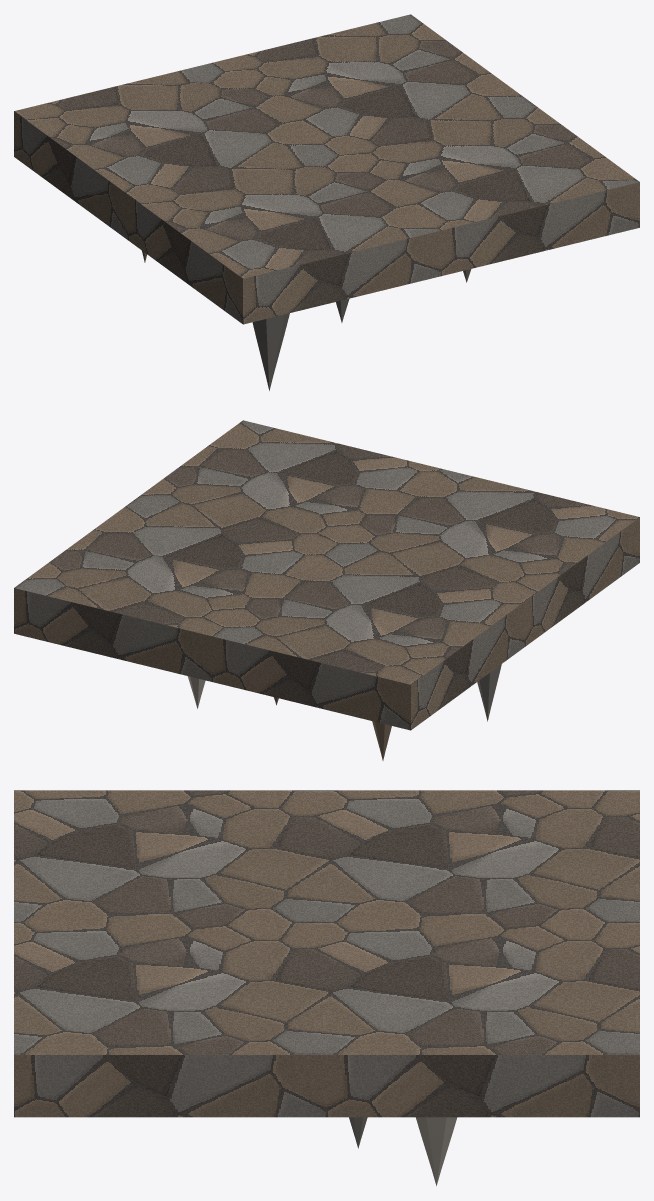
File: mine_ceiling_stalactites.glb
3 renders of one model, top to bottom at view 1: azimuth 30°, elevation 25°; view 2: azimuth 150°, elevation 25°; view 3: azimuth 270°, elevation 25°, orthographic. The views are drawn at different scales.
Visible parts, largest first — view 1: mine_ceiling_stalactites; view 2: mine_ceiling_stalactites; view 3: mine_ceiling_stalactites.
Boxes of the visible parts, x1,y1,x2,y2 form: mine_ceiling_stalactites: (14,14,639,390); mine_ceiling_stalactites: (14,420,639,760); mine_ceiling_stalactites: (14,790,639,1185).
Size of what is drawn, in the model's own units: 4 by 1.74 by 4.
Materials: 4 (1 with a texture image).
